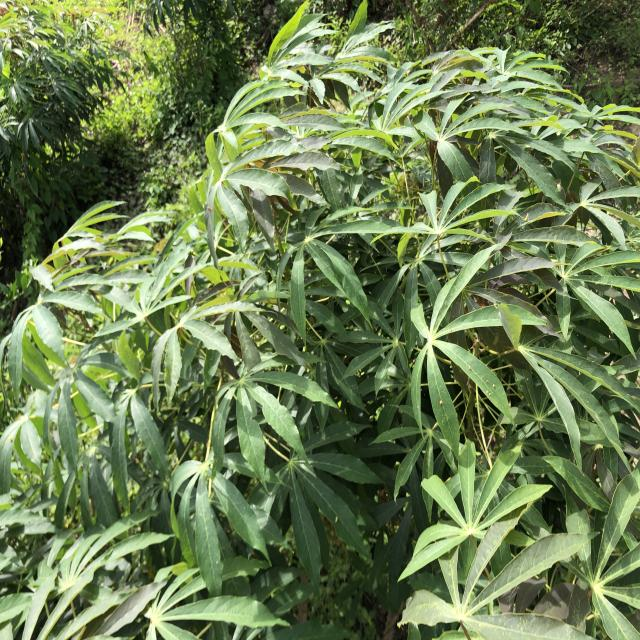Mosca: (484, 372, 501, 396), (519, 206, 534, 228), (437, 393, 446, 410)
